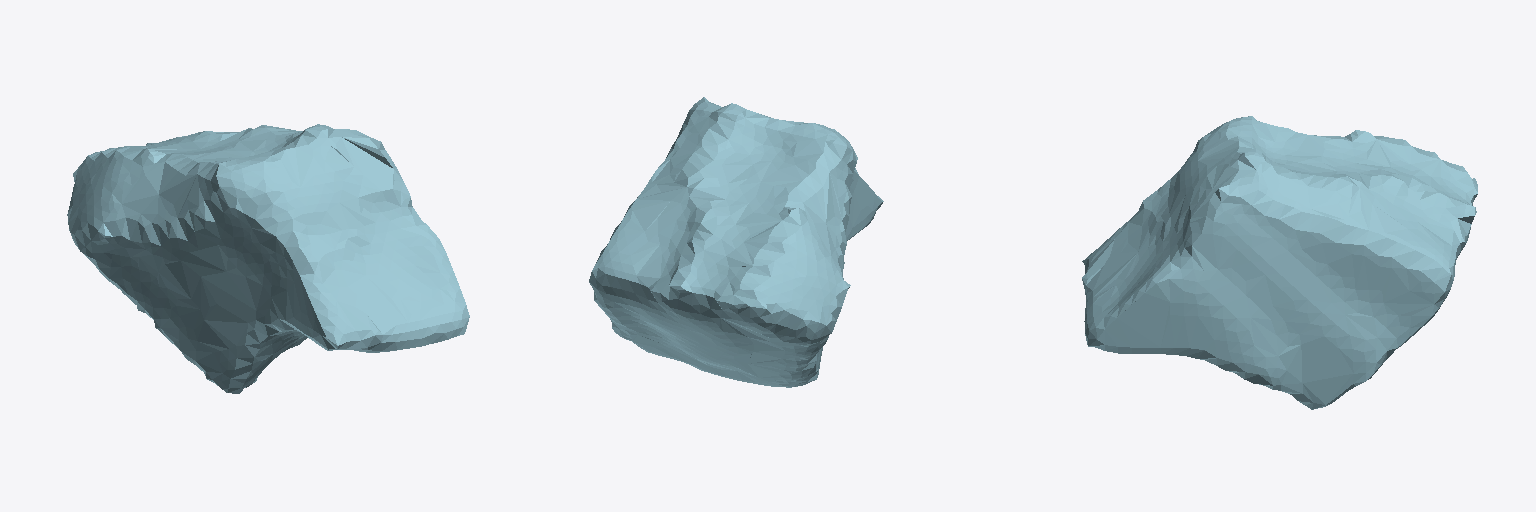
File: Model_135_RH__Temporal_area_TL_(TL).obj
3 renders of one model, left to right at view 1: azimuth 30°, elevation 25°; view 2: azimuth 150°, elevation 25°; view 3: azimuth 270°, elevation 25°, orthographic.
Bounding box in the file's own units: 2.01 × 1.99 × 2.82.